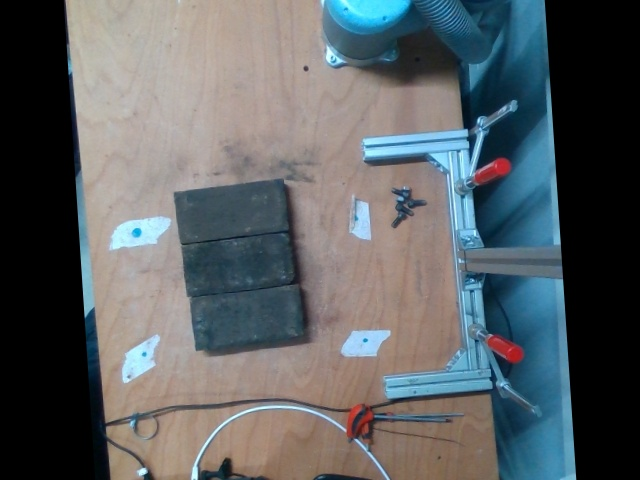brick: (180, 231, 296, 298), (188, 285, 304, 351), (172, 178, 288, 243)
